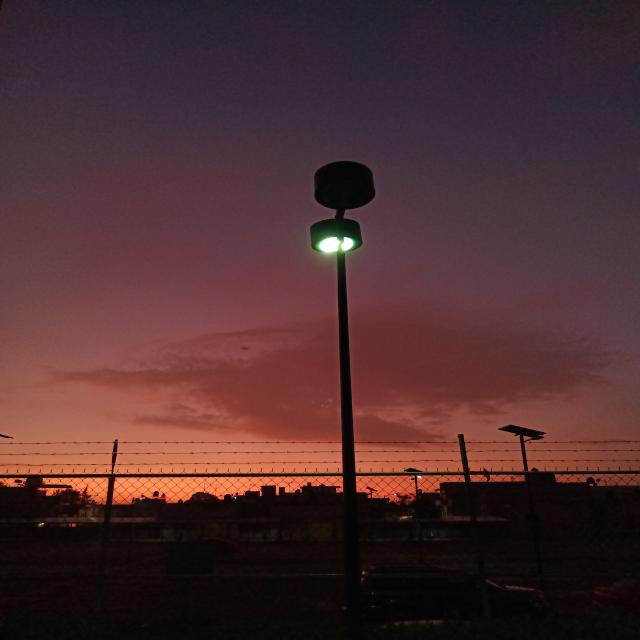Street Light: (310, 169, 378, 495)
